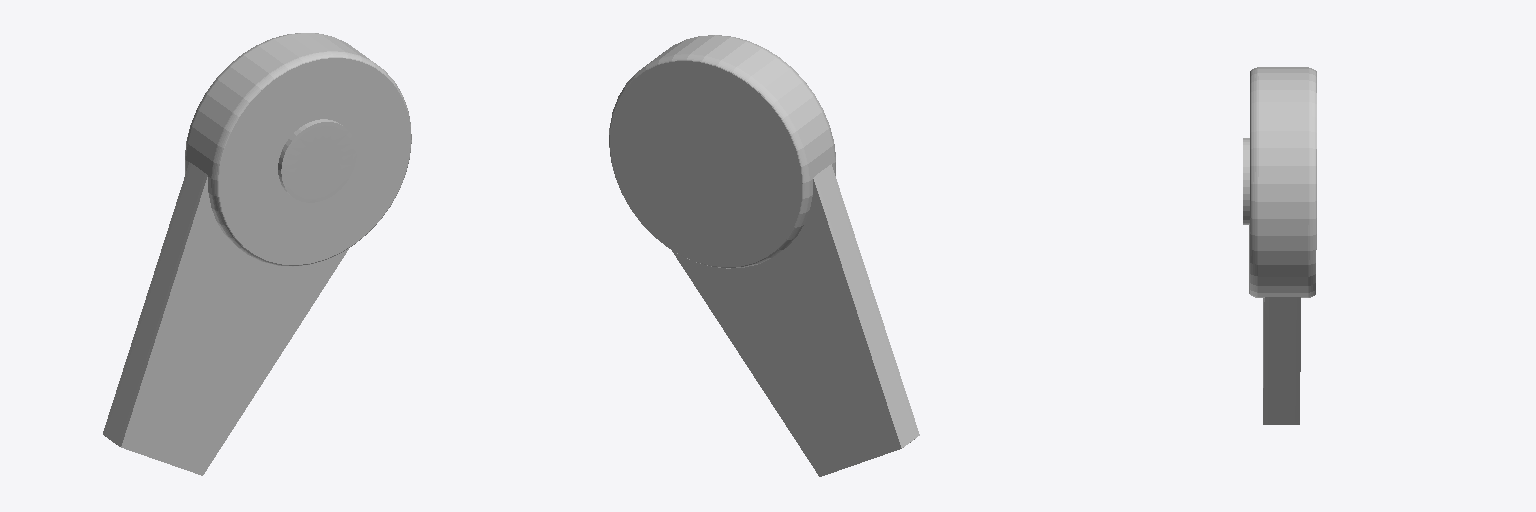
Rendered from arm1.obj.
3 renders of one model, left to right at view 1: azimuth 30°, elevation 25°; view 2: azimuth 150°, elevation 25°; view 3: azimuth 270°, elevation 25°, orthographic.
Parts seen in each view (by area): view 1: prova_braccio.006; view 2: prova_braccio.006; view 3: prova_braccio.006.
Boxes of the visible parts, x1=… form: prova_braccio.006: x1=103, y1=33, x2=411, y2=475; prova_braccio.006: x1=609, y1=35, x2=919, y2=476; prova_braccio.006: x1=1243, y1=67, x2=1316, y2=424.
Size of the model in its own units: 2.02 by 2.68 by 0.4505.